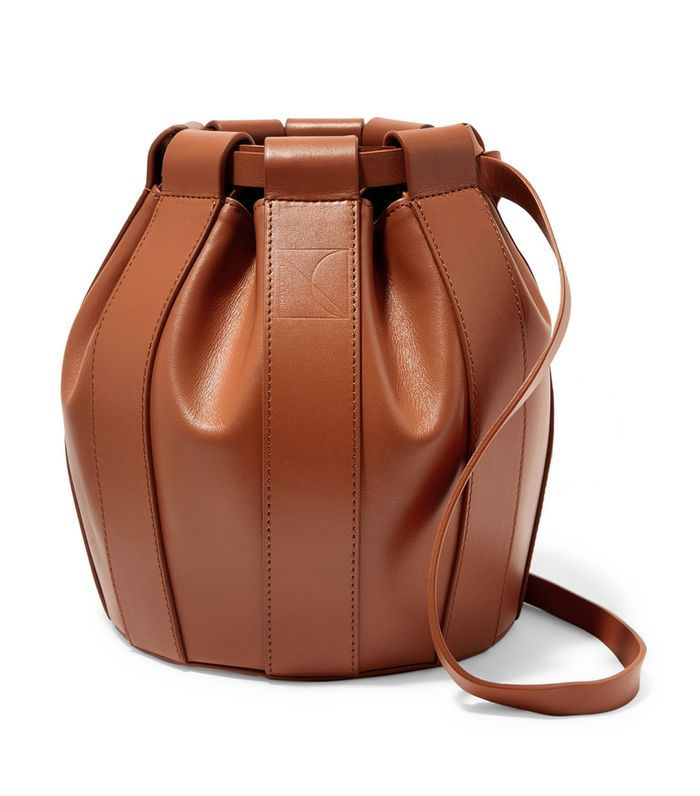cuero: (58, 117, 649, 715)
